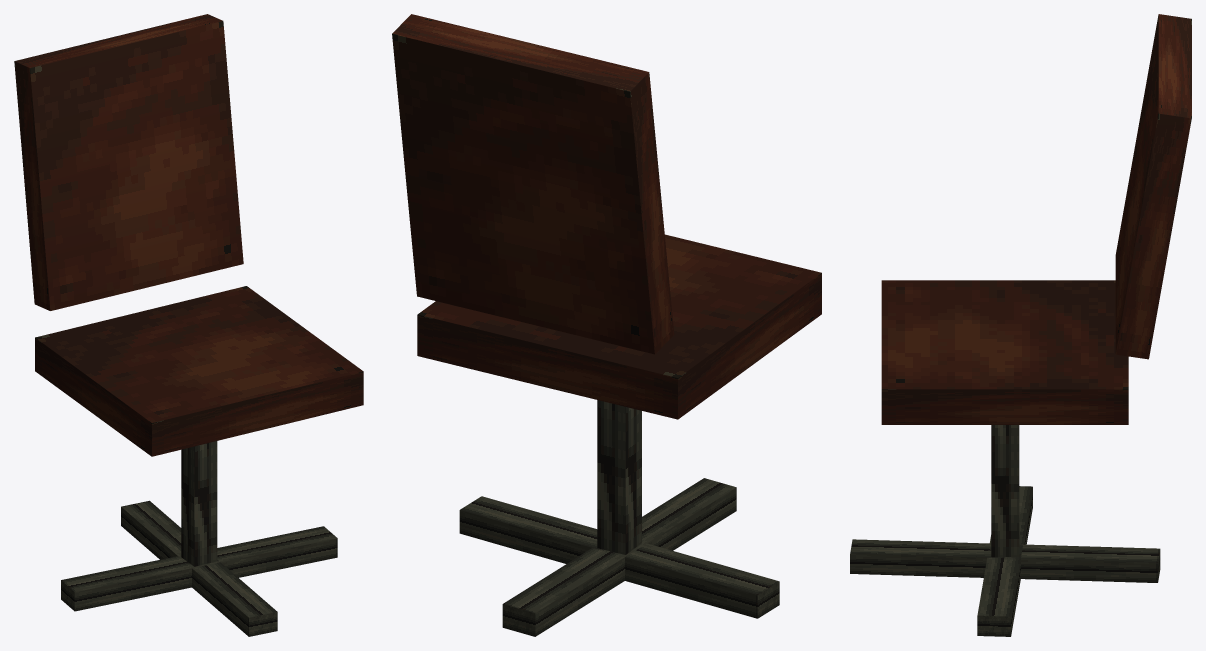
File: prop_officechair-1.glb
3 renders of one model, left to right at view 1: azimuth 30°, elevation 25°; view 2: azimuth 150°, elevation 25°; view 3: azimuth 270°, elevation 25°, orthographic. The views are drawn at different scales.
Parts seen in each view (by area): view 1: prop_officechair-1; view 2: prop_officechair-1; view 3: prop_officechair-1.
Part boxes in pixels (x1,y1,x2,y2): prop_officechair-1: (14, 14, 363, 636); prop_officechair-1: (392, 14, 821, 636); prop_officechair-1: (850, 14, 1191, 636).
Bounding box in the file's own units: 0.5529 × 0.9981 × 0.6089.
2 materials, 2 textured.
